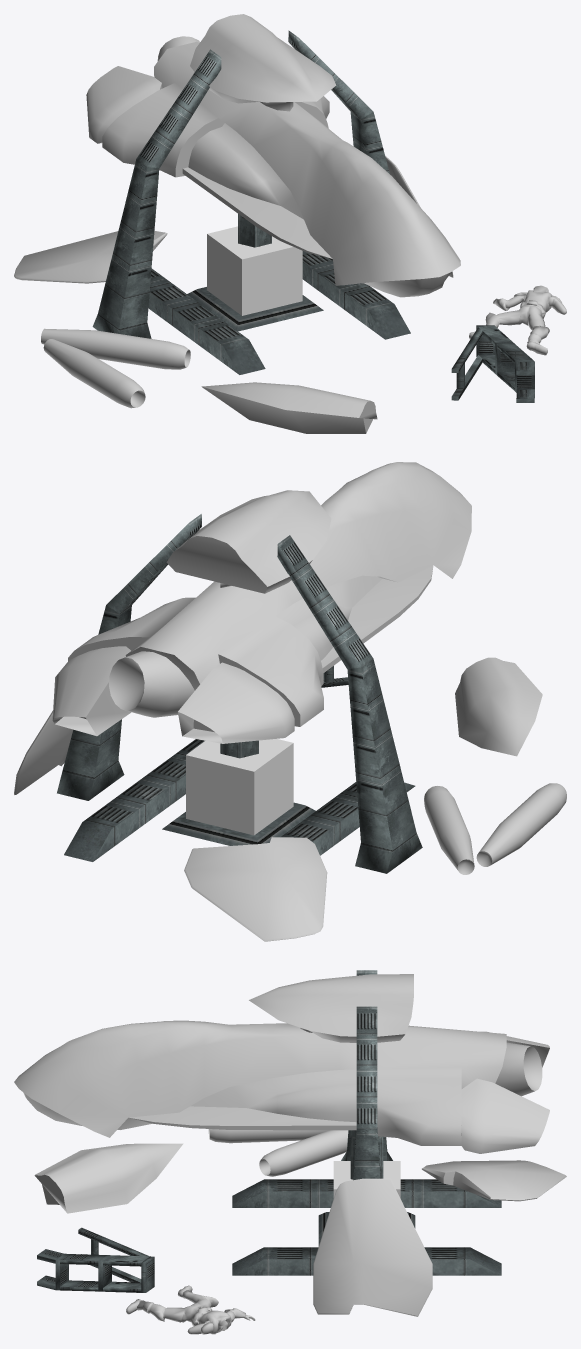
The model's file is pbscen10.FBX.
3 renders of one model, top to bottom at view 1: azimuth 30°, elevation 25°; view 2: azimuth 150°, elevation 25°; view 3: azimuth 270°, elevation 25°, orthographic. The views are drawn at different scales.
Visible parts, largest first — view 1: avenger, pbscen10, hp_dummyroot, corpse; view 2: avenger, pbscen10, hp_dummyroot; view 3: avenger, pbscen10, corpse, hp_dummyroot.
Boxes of the visible parts, bbox=[...] form: avenger: bbox=[14, 14, 460, 433]; pbscen10: bbox=[92, 30, 534, 402]; hp_dummyroot: bbox=[207, 226, 302, 315]; corpse: bbox=[469, 285, 566, 355]; avenger: bbox=[14, 462, 566, 941]; pbscen10: bbox=[57, 514, 422, 873]; hp_dummyroot: bbox=[186, 739, 293, 835]; avenger: bbox=[14, 974, 566, 1316]; pbscen10: bbox=[37, 970, 501, 1292]; corpse: bbox=[126, 1285, 255, 1334]; hp_dummyroot: bbox=[333, 1161, 400, 1198].
Size of the model in its own units: 7.26 by 8.27 by 4.27.
